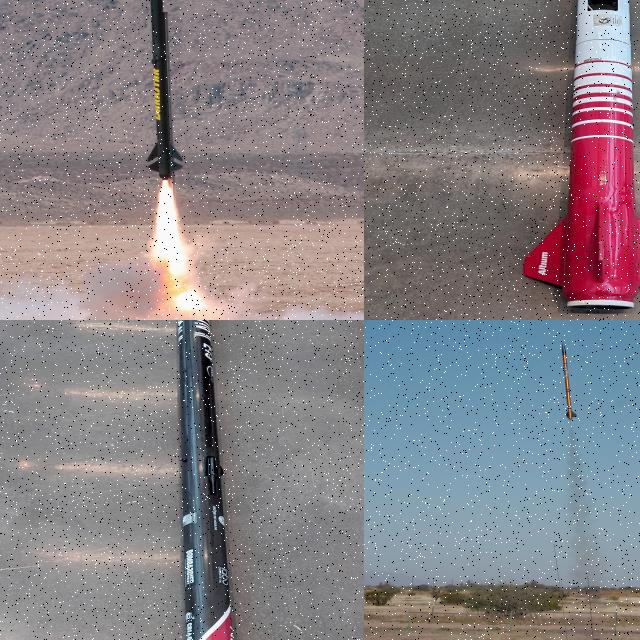Rocket: (523, 0, 640, 311), (178, 320, 234, 640), (144, 0, 186, 181), (561, 341, 578, 420)
